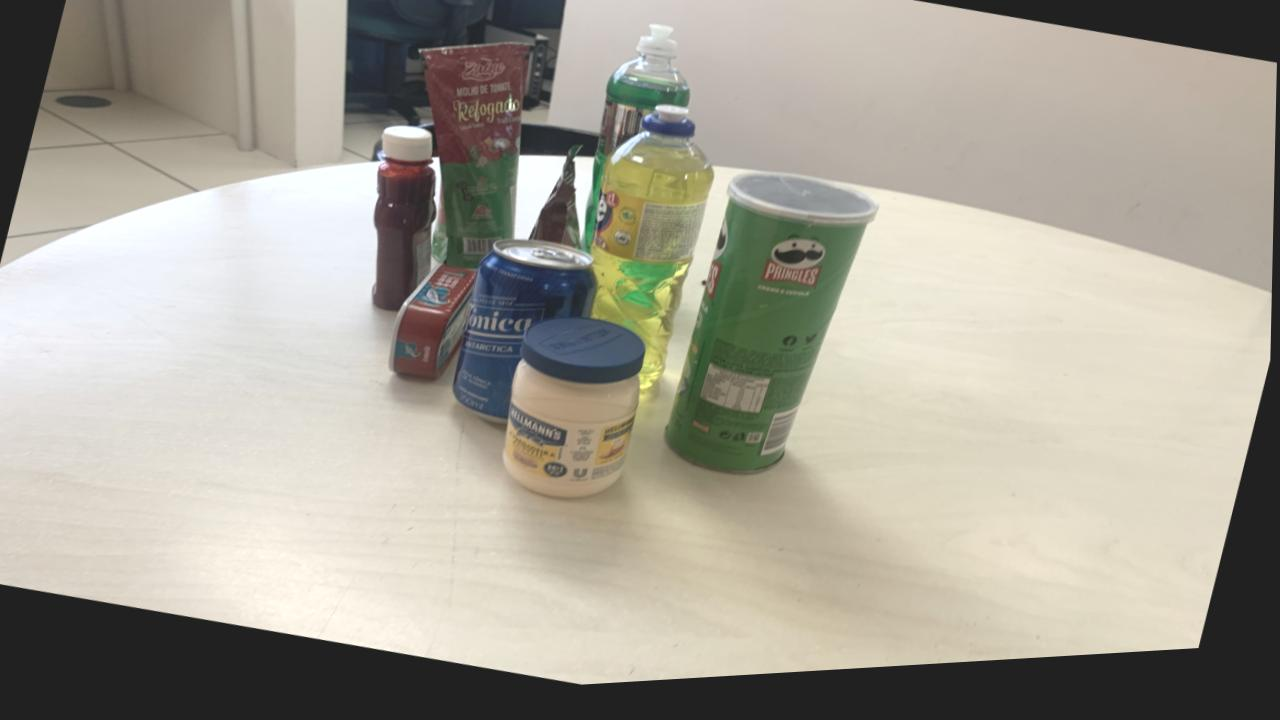Coffee-Pantry_Items: (530, 151, 583, 255)
Detergent-Cleanup_Items: (590, 113, 715, 397), (584, 32, 690, 256)
Ketchup-Pantry_Items: (373, 130, 437, 315)
Mayonnaise-Pantry_Items: (503, 324, 647, 505)
Pringles-Snacks: (666, 181, 880, 483), (549, 394, 551, 398)
Tomato_Sauce-Pantry_Items: (424, 48, 529, 275)
Tonic-Drinks: (454, 245, 598, 428)
Tuna_Can-Pantry_Items: (390, 270, 477, 384)
